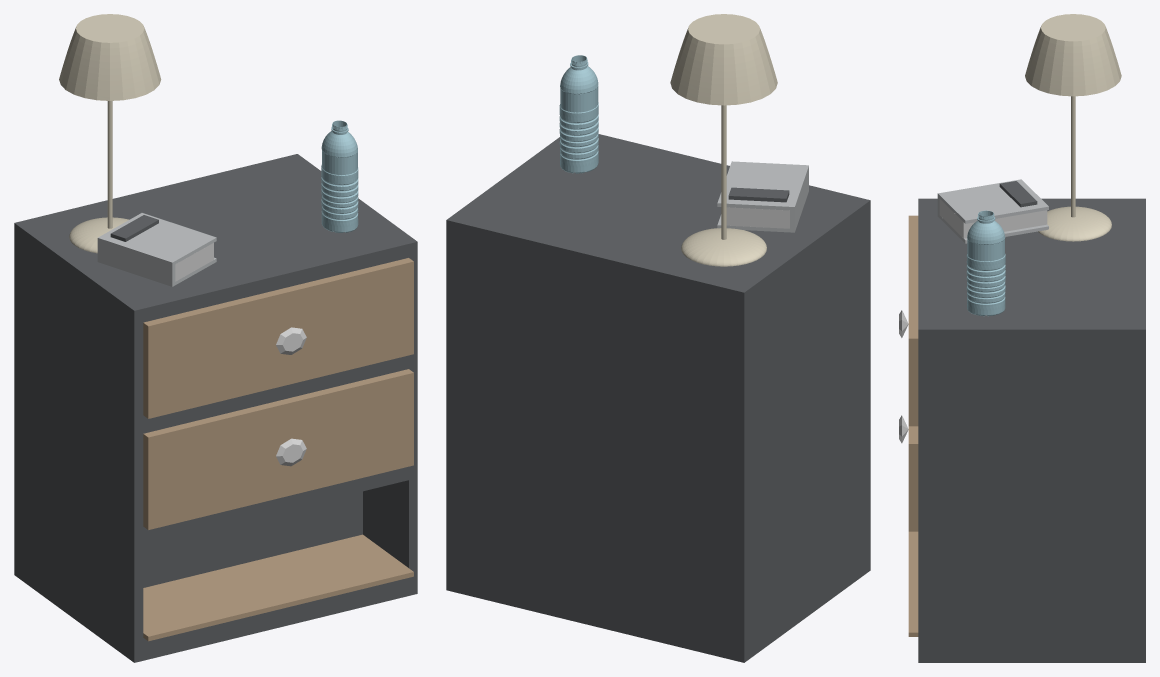
Rendered from C149 Project.glb.
3 renders of one model, left to right at view 1: azimuth 30°, elevation 25°; view 2: azimuth 150°, elevation 25°; view 3: azimuth 270°, elevation 25°, orthographic. The views are drawn at different scales.
Parts seen in each view (by area): view 1: Mesh_Mesh_head_geo.001_lambert2SG.001; view 2: Mesh_Mesh_head_geo.001_lambert2SG.001; view 3: Mesh_Mesh_head_geo.001_lambert2SG.001.
Part boxes in pixels (box(x1,y1,x2,y2)): Mesh_Mesh_head_geo.001_lambert2SG.001: box(14, 14, 417, 662); Mesh_Mesh_head_geo.001_lambert2SG.001: box(446, 14, 870, 662); Mesh_Mesh_head_geo.001_lambert2SG.001: box(899, 14, 1145, 662).
Bounding box in the file's own units: 64 × 121 × 51.
